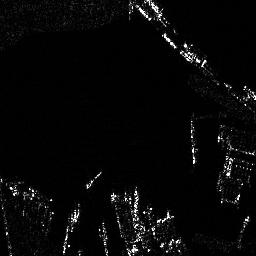ship: (187, 118, 198, 165)
